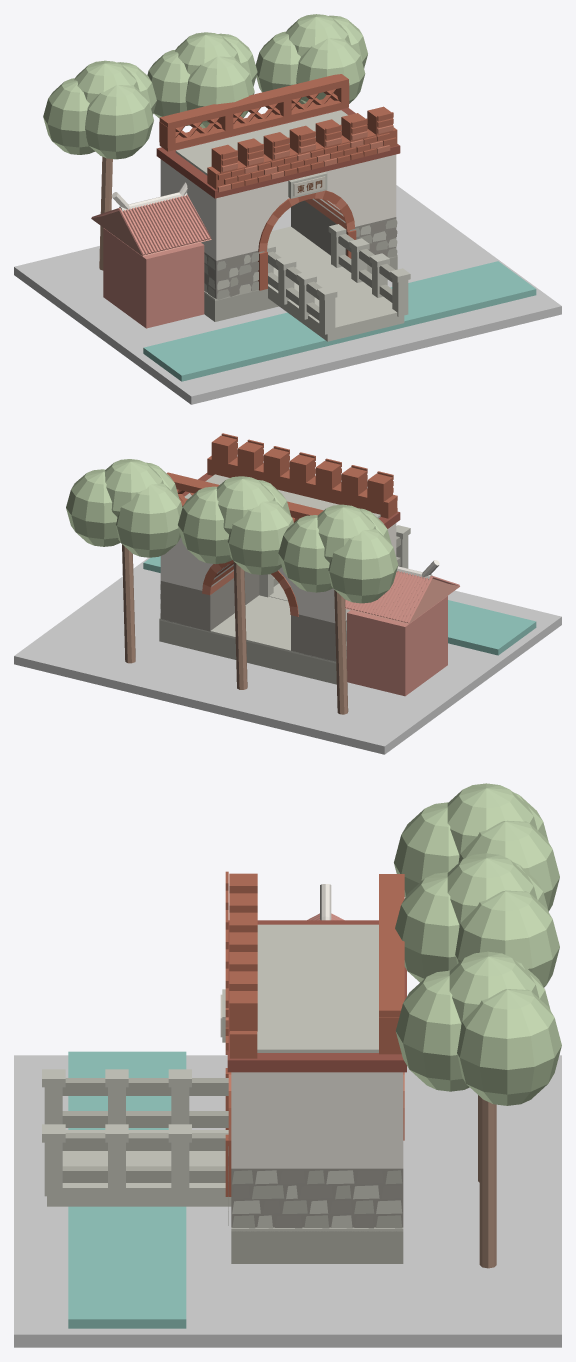
Rendered from dot-X3.glb.
3 views of the same model, one above another, from view 1: azimuth 30°, elevation 25°; view 2: azimuth 150°, elevation 25°; view 3: azimuth 270°, elevation 25° (orthographic). The views are drawn at different scales.
Visible parts, largest first — view 1: X3_pave; view 2: X3_pave; view 3: X3_pave.
Boxes of the visible parts, <box> form: X3_pave: <box>14,14,561,404</box>; X3_pave: <box>14,433,561,754</box>; X3_pave: <box>14,783,561,1347</box>.
Bounding box in the file's own units: 6.08 × 3.41 × 5.04.
2 materials, 2 textured.
